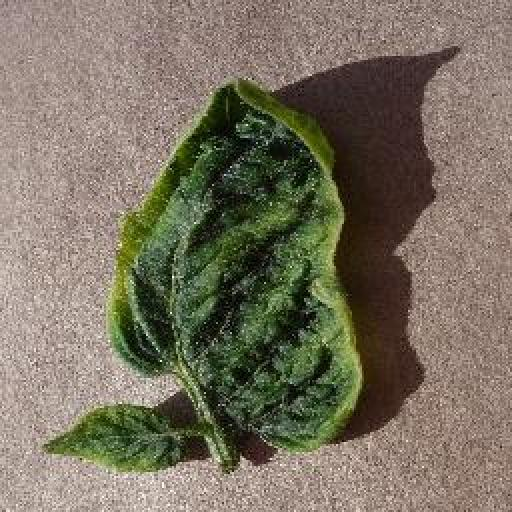Yellow Leaf Curl Virus: (107, 73, 361, 456), (38, 403, 182, 473)
